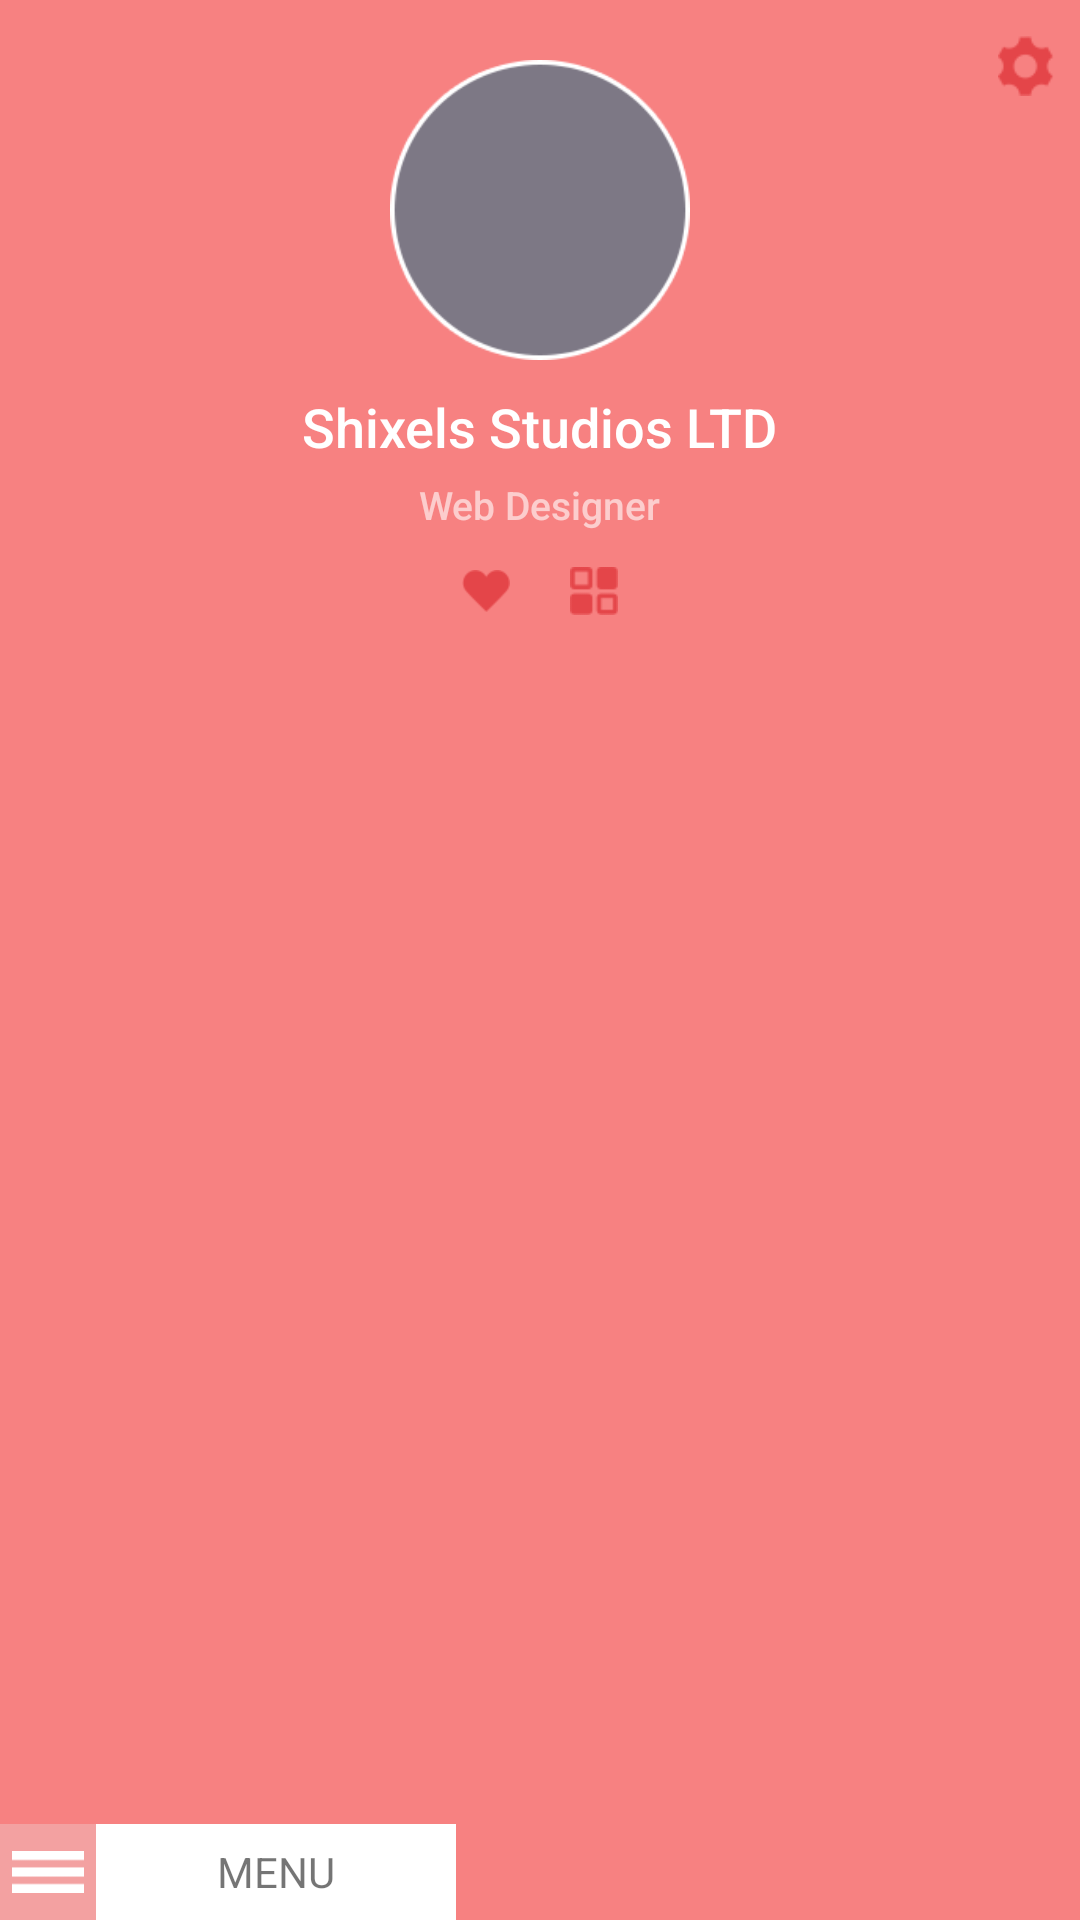

Icon bounding boxes for this 1080 x 1920 phone screenshot, format Rect(x1, y1, x2, y2):
boxes: Rect(570, 567, 618, 615)
heart: Rect(463, 570, 510, 611)
settings: Rect(998, 37, 1052, 96)
